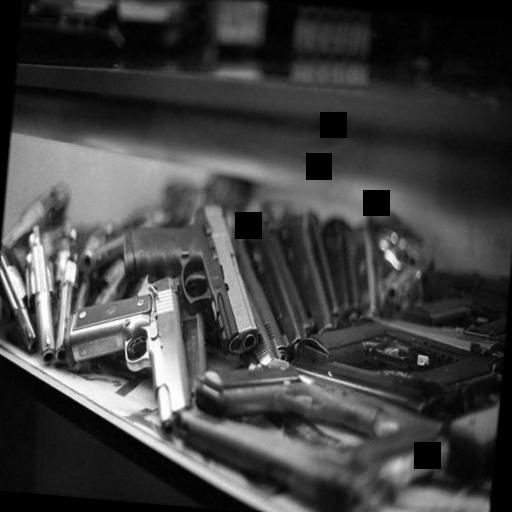Handgun: (110, 194, 270, 356), (62, 264, 202, 424), (193, 350, 400, 434)
